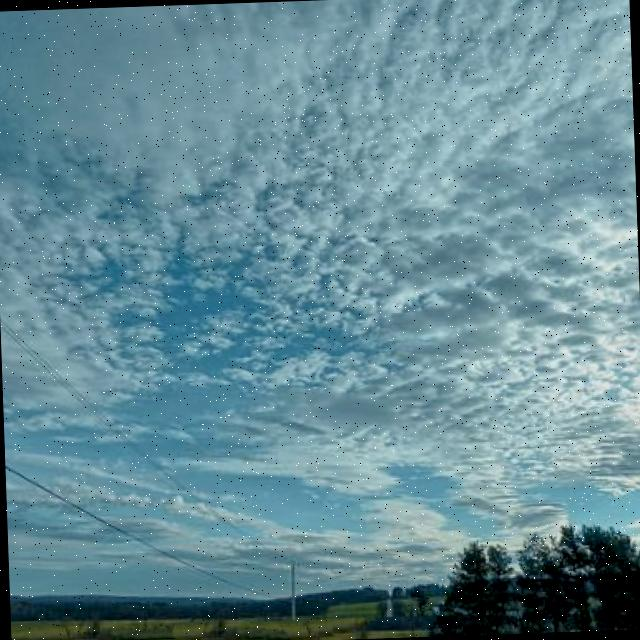Ci: (1, 11, 640, 457)
